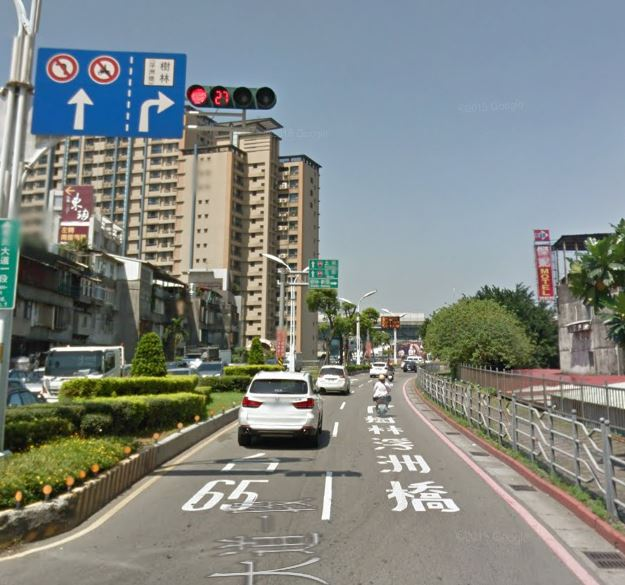Traffic_light_red: (185, 83, 276, 111)
